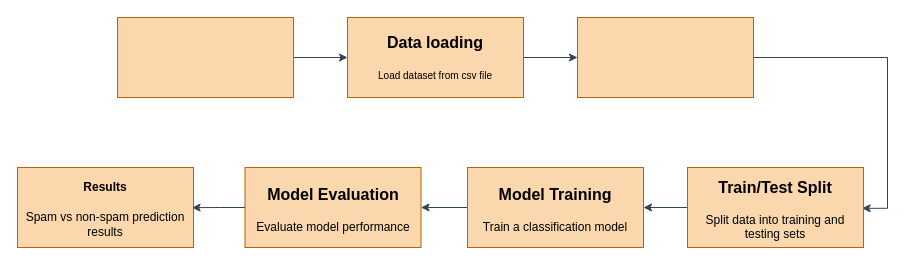
Some shapes in this 913 by 271 pixel diagram are drawn without their labels. Here are the shapes that lost their labels. From the top down, the centre of each, then its label:
the point at 205,57: Dataset selection Email spam dataset
the point at 665,57: Data Preprocessing Clean text and prepare data
